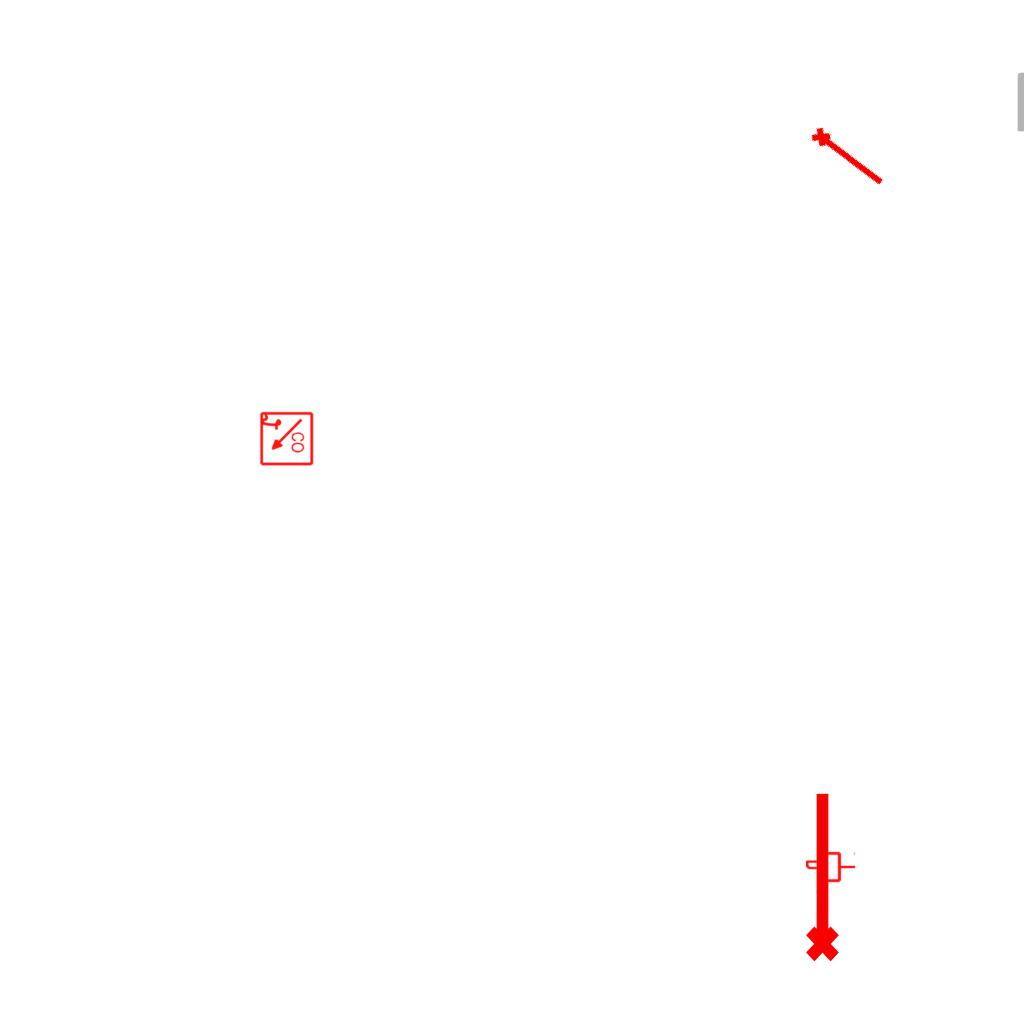ASR_Ansaugoeffnung: (797, 788, 843, 964), (806, 120, 892, 193)
Datenanschluss_einfach: (806, 850, 856, 884)
ROA_Rauchmelder_optisch_mit_Signalgeber_(Sockelsirene): (258, 411, 314, 467)
